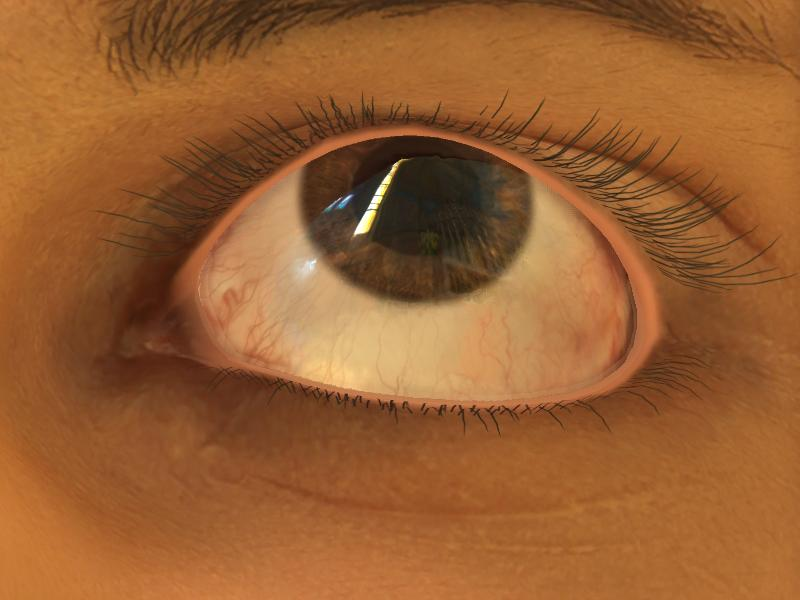eye: (297, 131, 529, 301)
